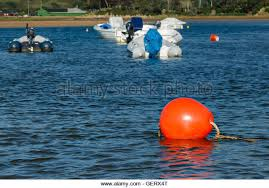buoy: (160, 98, 214, 144), (210, 35, 219, 41)
